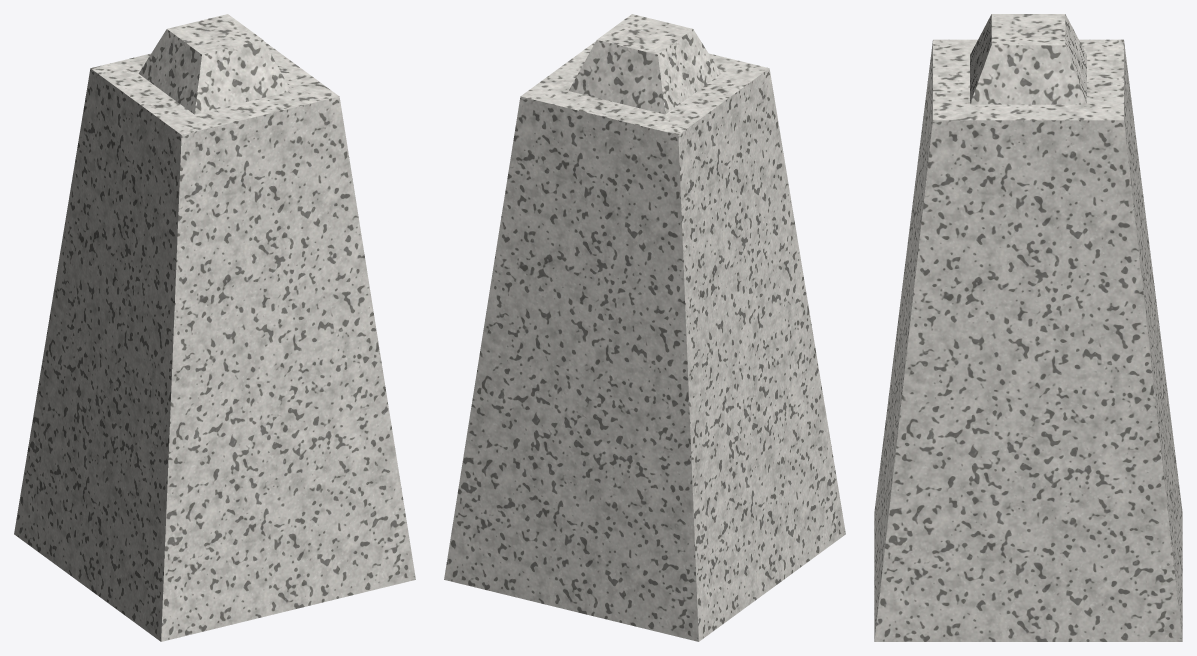
File: queen-white.glb
The picture shows the model from 3 angles, left to right: view 1: azimuth 30°, elevation 25°; view 2: azimuth 150°, elevation 25°; view 3: azimuth 270°, elevation 25°; orthographic projection. The views are drawn at different scales.
Parts seen in each view (by area): view 1: White_Queen; view 2: White_Queen; view 3: White_Queen.
Boxes of the visible parts, x1,y1,x2,y2 form: White_Queen: [14, 14, 415, 641]; White_Queen: [444, 14, 845, 641]; White_Queen: [874, 14, 1182, 641].
Bounding box in the file's own units: 0.6888 × 1.35 × 0.6888.
1 material, 1 textured.
